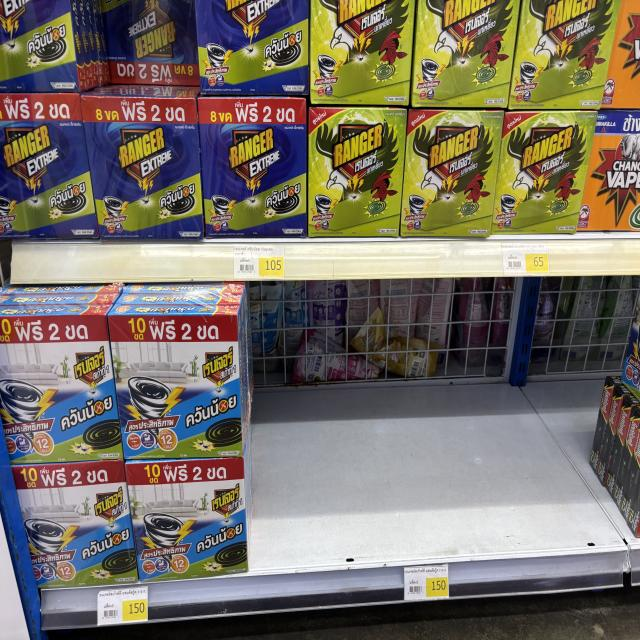empty_shelf: (248, 274, 624, 571), (78, 0, 199, 96)
